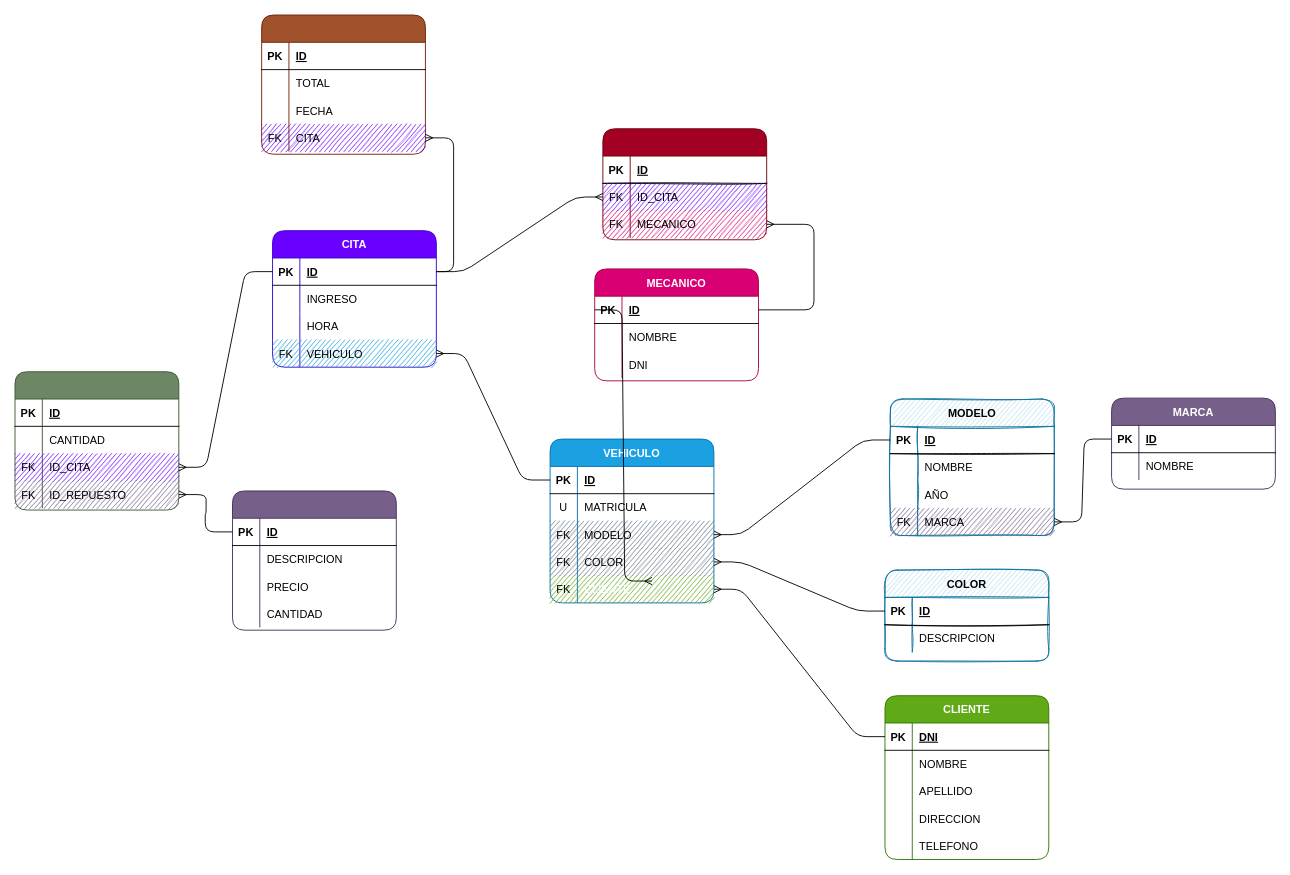
This 1290x875 diagram has some shape labels left out. Here are the shapes that lost their labels. From the top down, the box of each, then its label:
(261, 14, 425, 154): FACTURA
(602, 128, 767, 240): REPARACION
(14, 371, 179, 510): RESPUESTO_VEHICULO
(232, 490, 396, 630): REPUESTOS
